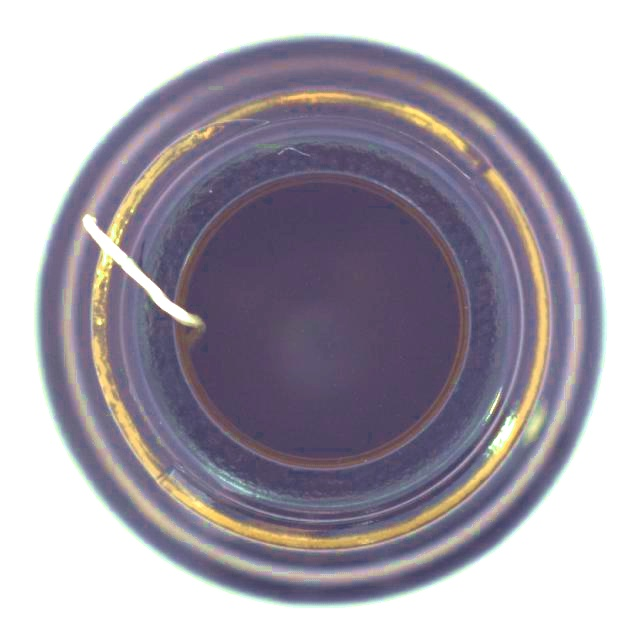bad-contamination: (31, 31, 611, 611)
